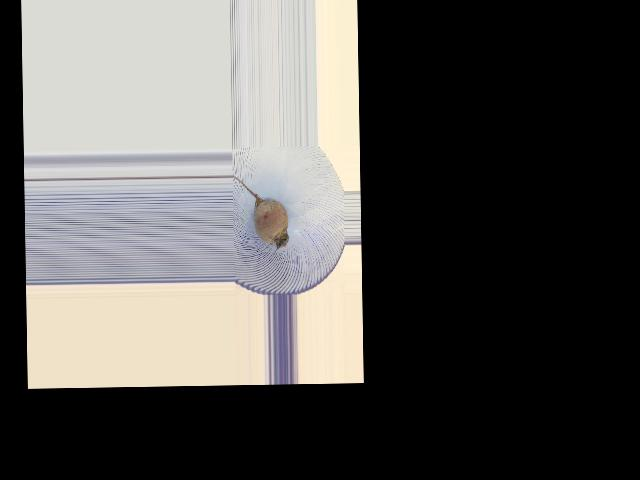beet: (231, 175, 288, 249)
